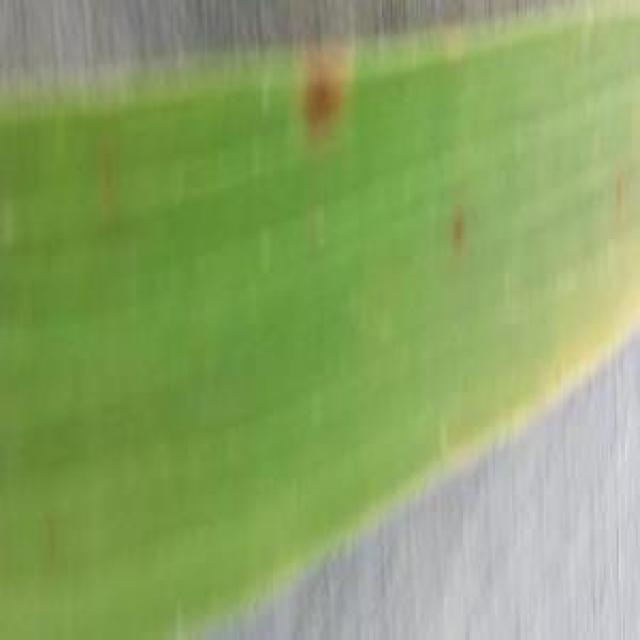brownspots: (288, 72, 365, 132), (437, 202, 482, 264)
